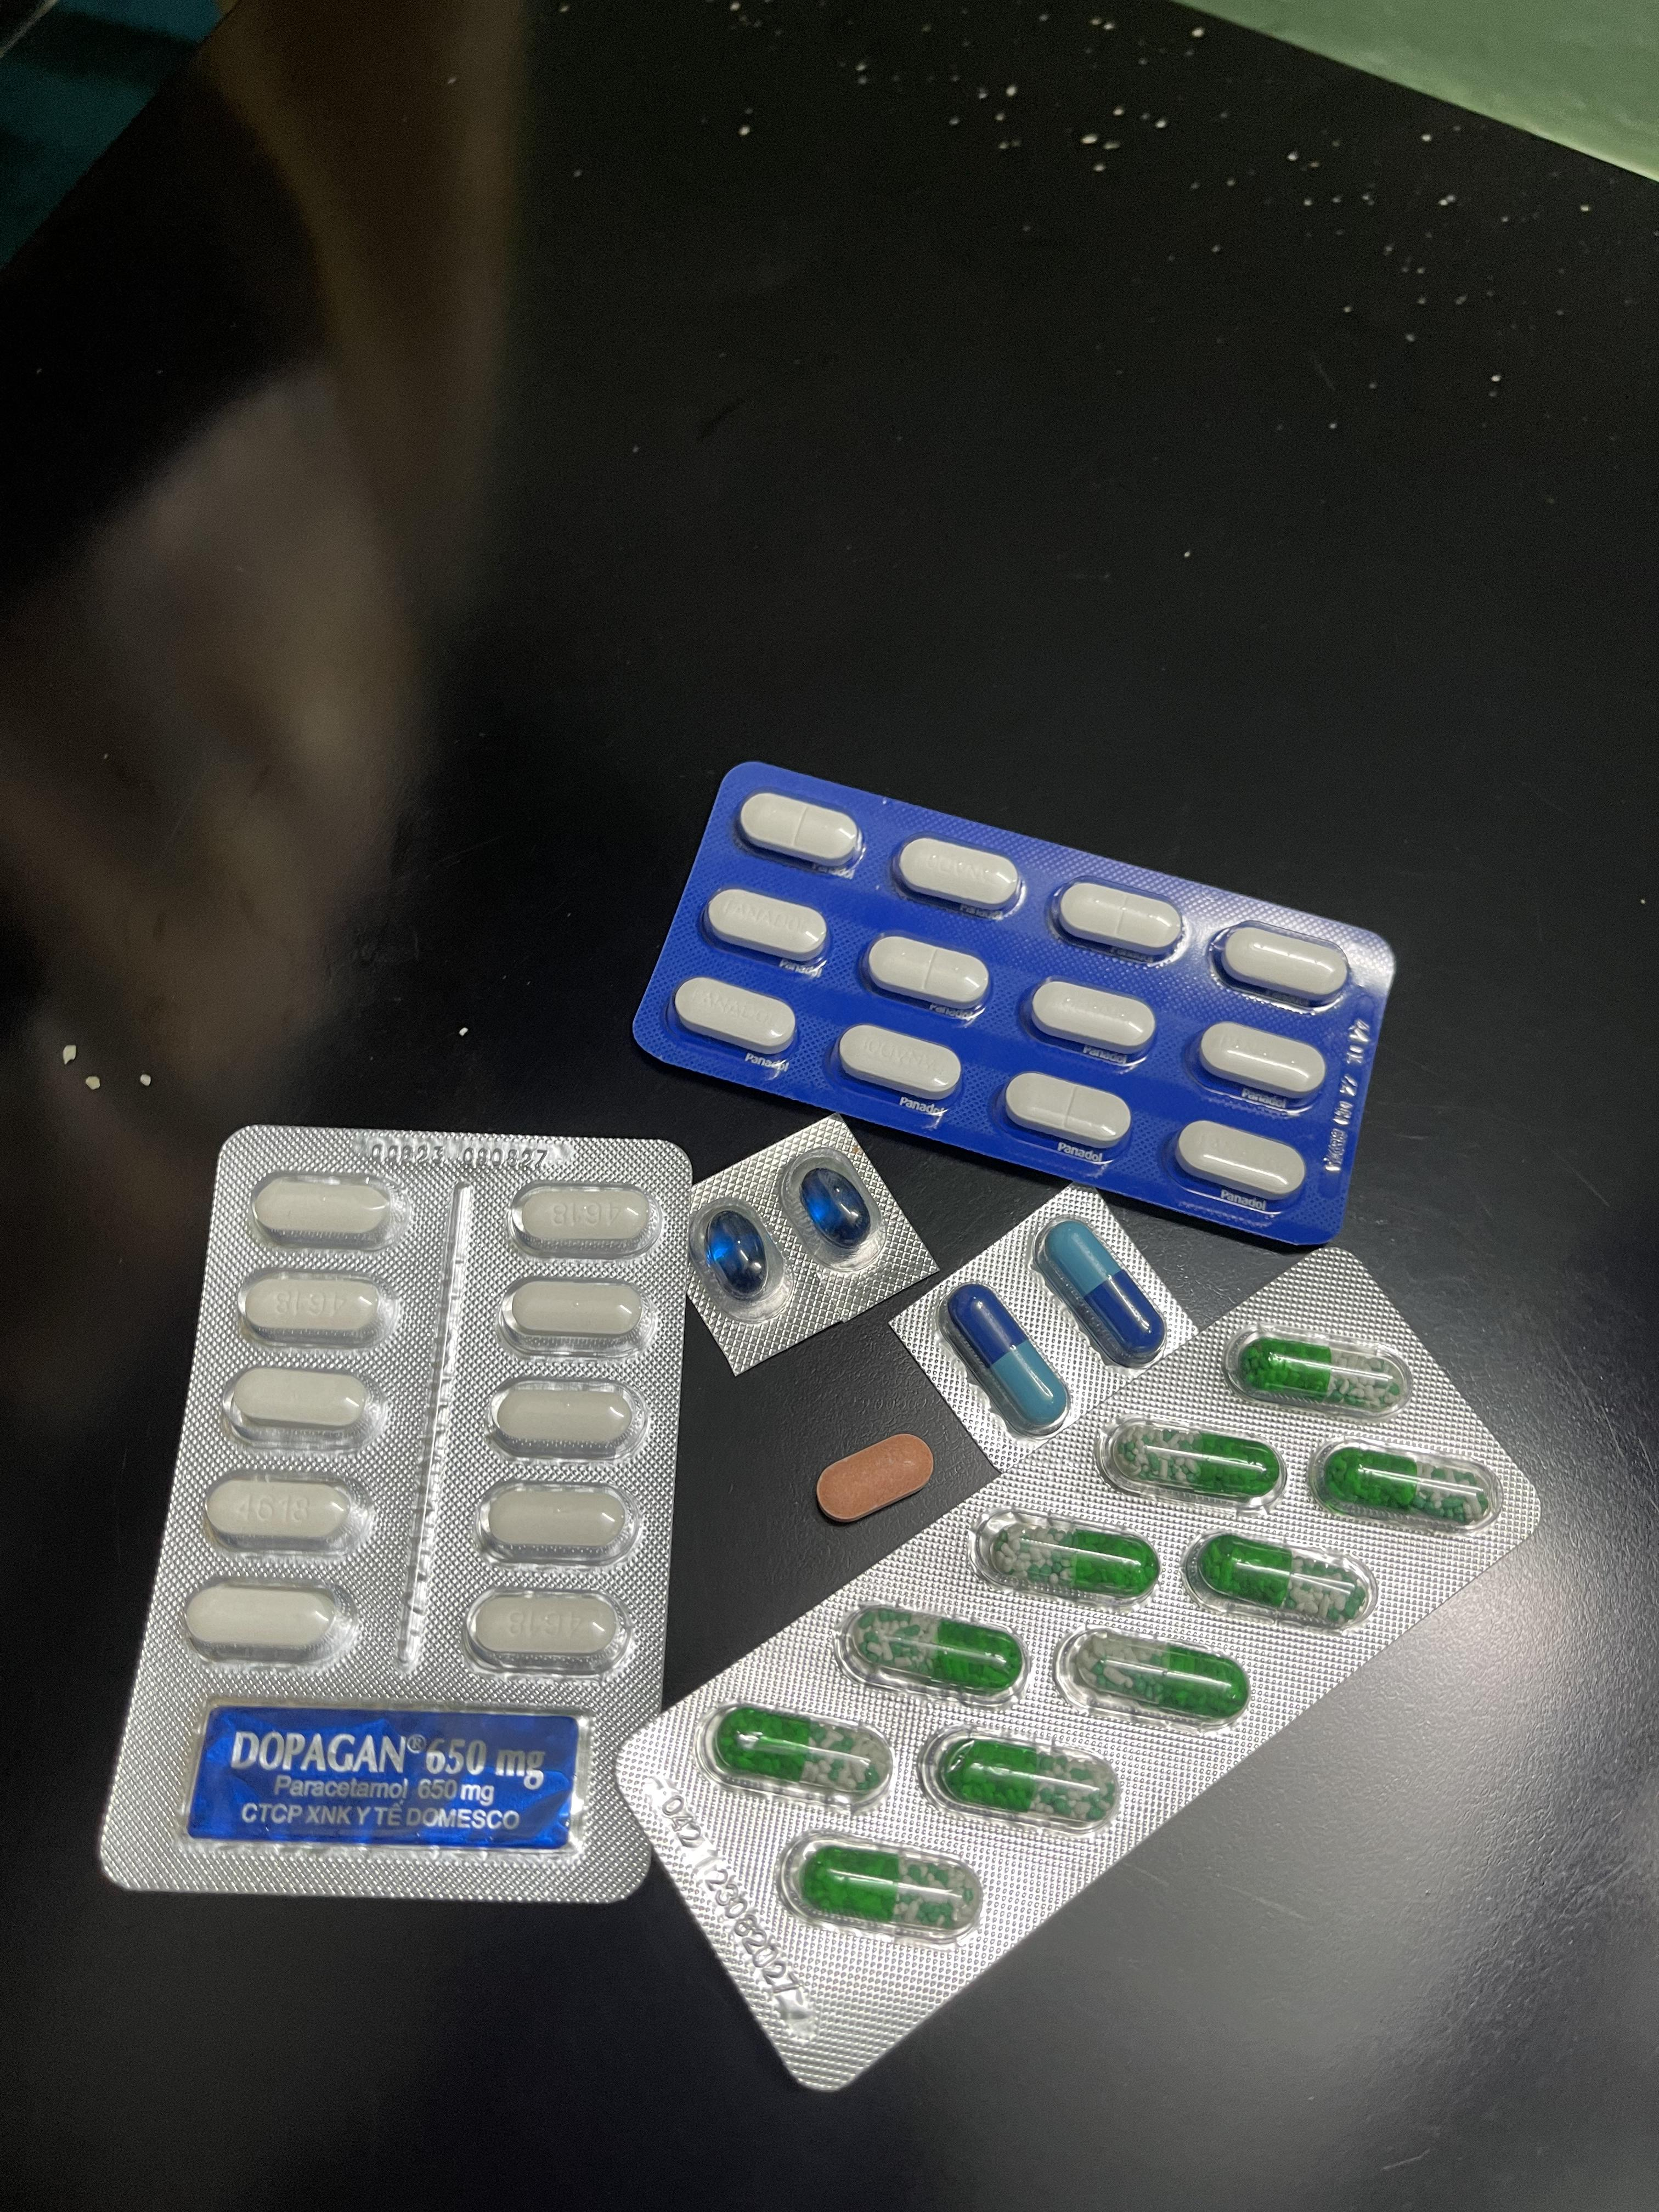Lincomyxin_500mg: (702, 1212, 769, 1298), (800, 1167, 871, 1244)
Loratadine_10mg: (812, 1432, 938, 1524)
Paracetamol_350mg: (1175, 1120, 1314, 1200), (1213, 927, 1352, 1005), (1194, 1022, 1333, 1099), (892, 836, 1025, 916), (1051, 881, 1185, 960), (1028, 979, 1161, 1054), (864, 934, 990, 1012), (676, 975, 798, 1055), (836, 1024, 964, 1101), (737, 791, 859, 869), (704, 888, 826, 965), (1004, 1073, 1131, 1146)
Paracetamol_500mg: (181, 1578, 359, 1662), (220, 1366, 389, 1449), (465, 1588, 631, 1674), (202, 1472, 371, 1552), (235, 1264, 399, 1346), (479, 1480, 638, 1564), (249, 1169, 410, 1247), (488, 1376, 640, 1454), (507, 1181, 655, 1258), (500, 1278, 650, 1353)
Paracetamol_650mg: (1061, 1630, 1260, 1728), (918, 1730, 1117, 1825), (699, 1705, 875, 1811), (1183, 1531, 1370, 1630), (842, 1604, 1032, 1700), (979, 1510, 1171, 1602), (802, 1848, 971, 1928), (1321, 1447, 1486, 1521), (1119, 1428, 1279, 1498), (1239, 1339, 1403, 1406)
pill: (1035, 1216, 1169, 1371), (943, 1284, 1070, 1433)
